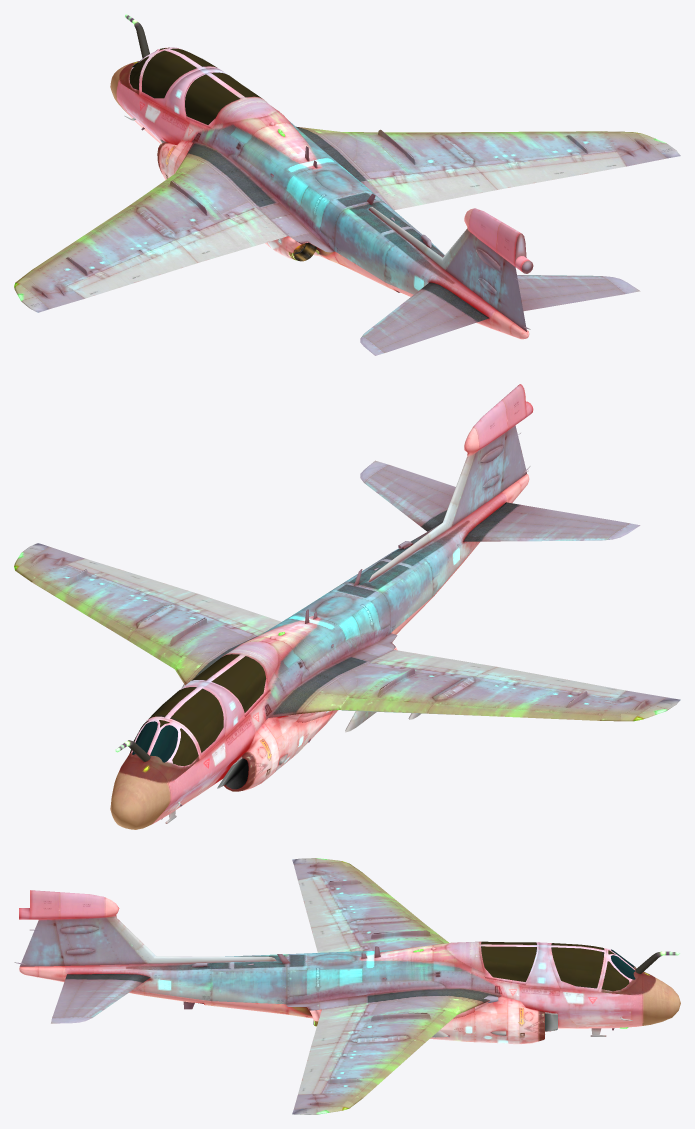
3 views of the same model, one above another, from view 1: azimuth 30°, elevation 25°; view 2: azimuth 150°, elevation 25°; view 3: azimuth 270°, elevation 25° (orthographic). The views are drawn at different scales.
Visible parts, largest first — view 1: EA-6B_LOD0_default, EA-6B_ElevatorL01_default, EA-6B_Glass01_default, EA-6B_ElevatorR01_default, EA-6B_FlapR01_default, EA-6B_FlapL01_default, EA-6B_AileronR01_default, EA-6B_AileronL01_default, EA-6B_RudderL01_default, EA-6B_BrakeR03_default, EA-6B_BrakeL03_default, EA-6B_BrakeR04_default (+5 smaller); view 2: EA-6B_LOD0_default, EA-6B_Glass01_default, EA-6B_ElevatorL01_default, EA-6B_ElevatorR01_default, EA-6B_VoletL01_default, EA-6B_FlapR01_default, EA-6B_FlapL01_default, EA-6B_AileronR01_default, EA-6B_AileronL01_default, EA-6B_VoletL02_default, EA-6B_VoletR01_default, EA-6B_RudderL01_default (+4 smaller); view 3: EA-6B_LOD0_default, EA-6B_Glass01_default, EA-6B_ElevatorR01_default, EA-6B_RudderL01_default, EA-6B_FlapR01_default, EA-6B_AileronL01_default, EA-6B_AileronR01_default, EA-6B_FlapL01_default, EA-6B_VoletR01_default, EA-6B_Canopy01_default, EA-6B_BrakeL03_default, EA-6B_BrakeR03_default (+4 smaller).
Boxes of the visible parts, x1,y1,x2,y2 form: EA-6B_LOD0_default: (14,14,680,339); EA-6B_ElevatorL01_default: (360,283,488,355); EA-6B_Glass01_default: (129,47,261,124); EA-6B_ElevatorR01_default: (517,275,640,311); EA-6B_FlapR01_default: (375,173,496,210); EA-6B_FlapL01_default: (182,214,287,262); EA-6B_AileronR01_default: (481,157,625,189); EA-6B_AileronL01_default: (74,246,197,298); EA-6B_RudderL01_default: (497,259,530,331); EA-6B_BrakeR03_default: (474,151,619,172); EA-6B_BrakeL03_default: (66,239,181,290); EA-6B_BrakeR04_default: (369,166,480,186); EA-6B_LOD0_default: (14,384,680,829); EA-6B_Glass01_default: (129,654,266,766); EA-6B_ElevatorL01_default: (467,502,640,541); EA-6B_ElevatorR01_default: (360,460,455,531); EA-6B_VoletL01_default: (427,704,601,720); EA-6B_FlapR01_default: (182,594,281,631); EA-6B_FlapL01_default: (375,649,496,673); EA-6B_AileronR01_default: (74,558,197,600); EA-6B_AileronL01_default: (481,667,625,695); EA-6B_VoletL02_default: (340,697,432,713); EA-6B_VoletR01_default: (32,578,133,640); EA-6B_RudderL01_default: (501,425,530,492); EA-6B_LOD0_default: (19,858,680,1114); EA-6B_Glass01_default: (481,941,635,991); EA-6B_ElevatorR01_default: (51,974,148,1023); EA-6B_RudderL01_default: (14,919,64,966); EA-6B_FlapR01_default: (311,1005,356,1046); EA-6B_AileronL01_default: (298,877,337,927); EA-6B_AileronR01_default: (298,1042,337,1094); EA-6B_FlapL01_default: (311,924,351,952); EA-6B_VoletR01_default: (357,1038,424,1097); EA-6B_Canopy01_default: (547,943,605,991); EA-6B_BrakeL03_default: (312,875,347,923); EA-6B_BrakeR03_default: (312,1041,347,1093).
Bounding box in the file's own units: 16.12 × 4.3 × 17.71.
Materials: 4 (4 with a texture image).
